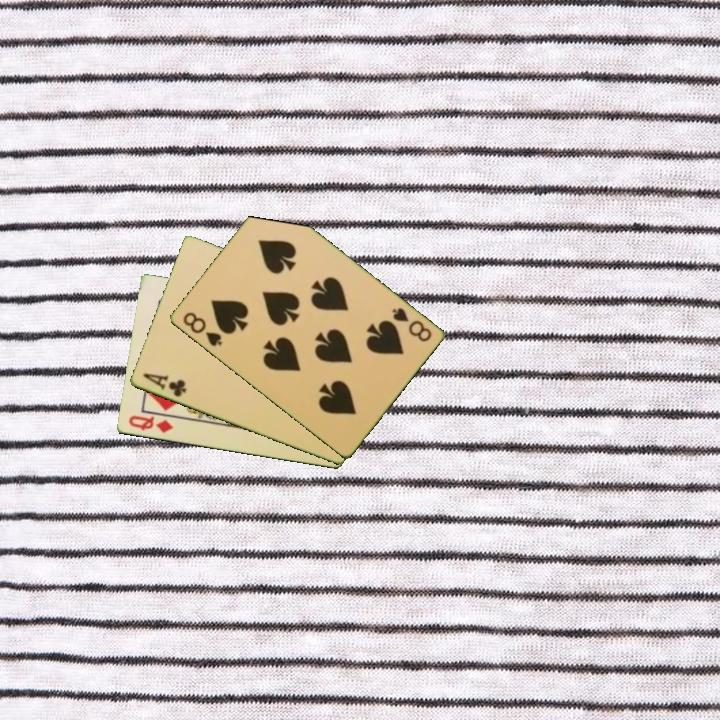8s: (179, 308, 225, 349), (388, 304, 434, 345)
Ac: (139, 370, 189, 400)
Qd: (125, 412, 175, 436)
